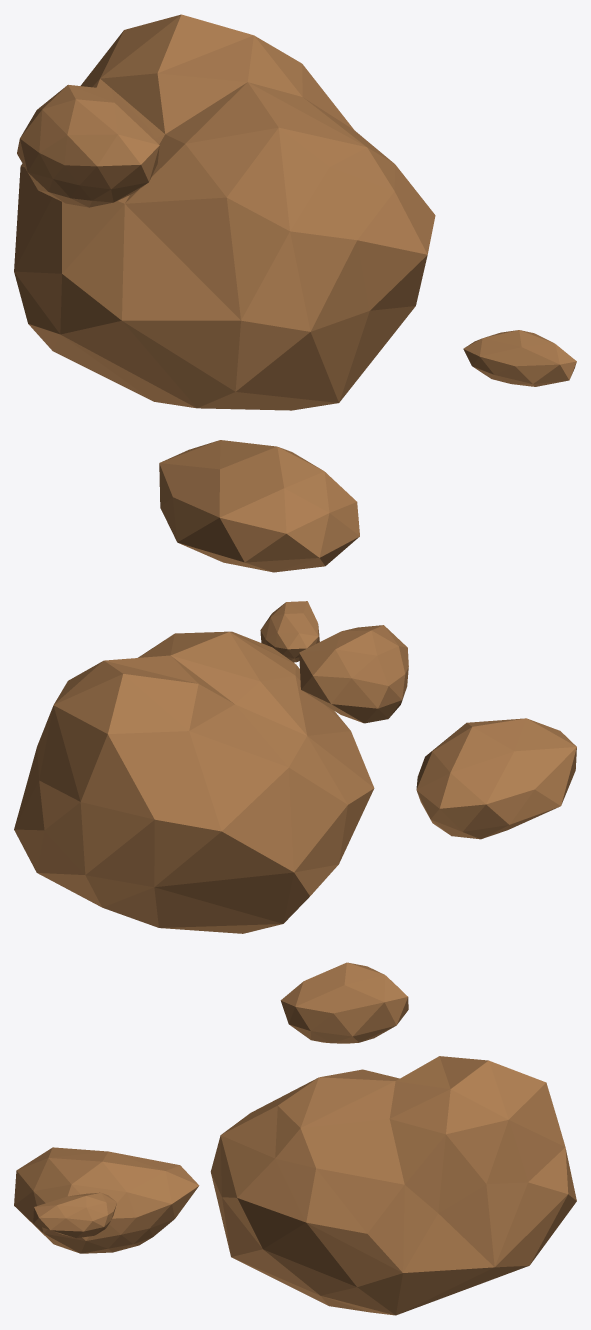
The model's file is EarthProjectile1.fbx.
3 views of the same model, one above another, from view 1: azimuth 30°, elevation 25°; view 2: azimuth 150°, elevation 25°; view 3: azimuth 270°, elevation 25° (orthographic). The views are drawn at different scales.
Visible parts, largest first — view 1: EarthProjectile1; view 2: EarthProjectile1; view 3: EarthProjectile1.
Part boxes in pixels (x1=…): EarthProjectile1: x1=14, y1=14, x2=576, y2=572; EarthProjectile1: x1=14, y1=601, x2=576, y2=933; EarthProjectile1: x1=14, y1=962, x2=576, y2=1315.
Size of the model in its own units: 149 by 122 by 231.
